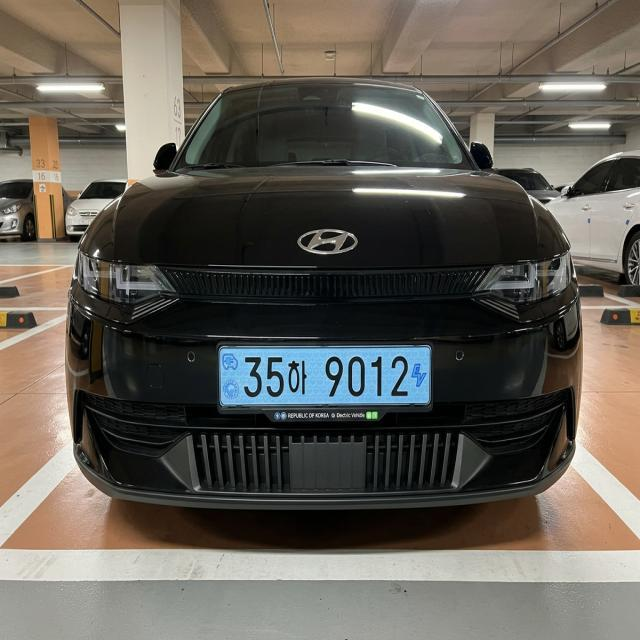car: (205, 331, 449, 442)
carev: (406, 345, 434, 413), (218, 341, 242, 409)
